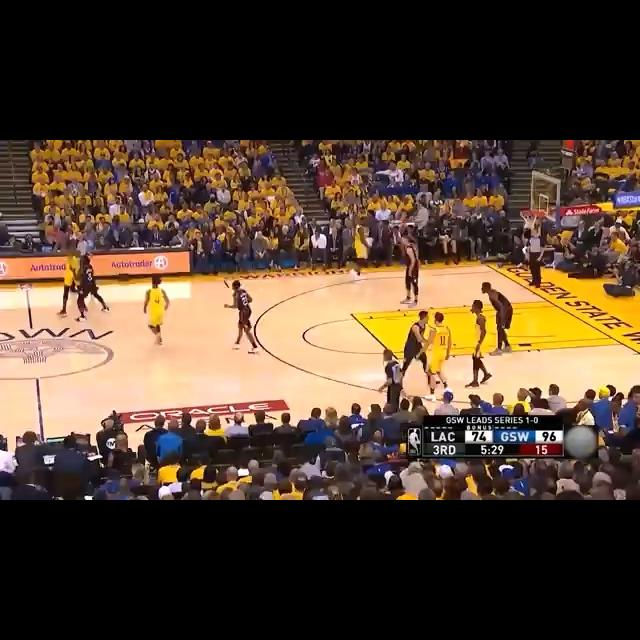hoop: (519, 208, 544, 233)
